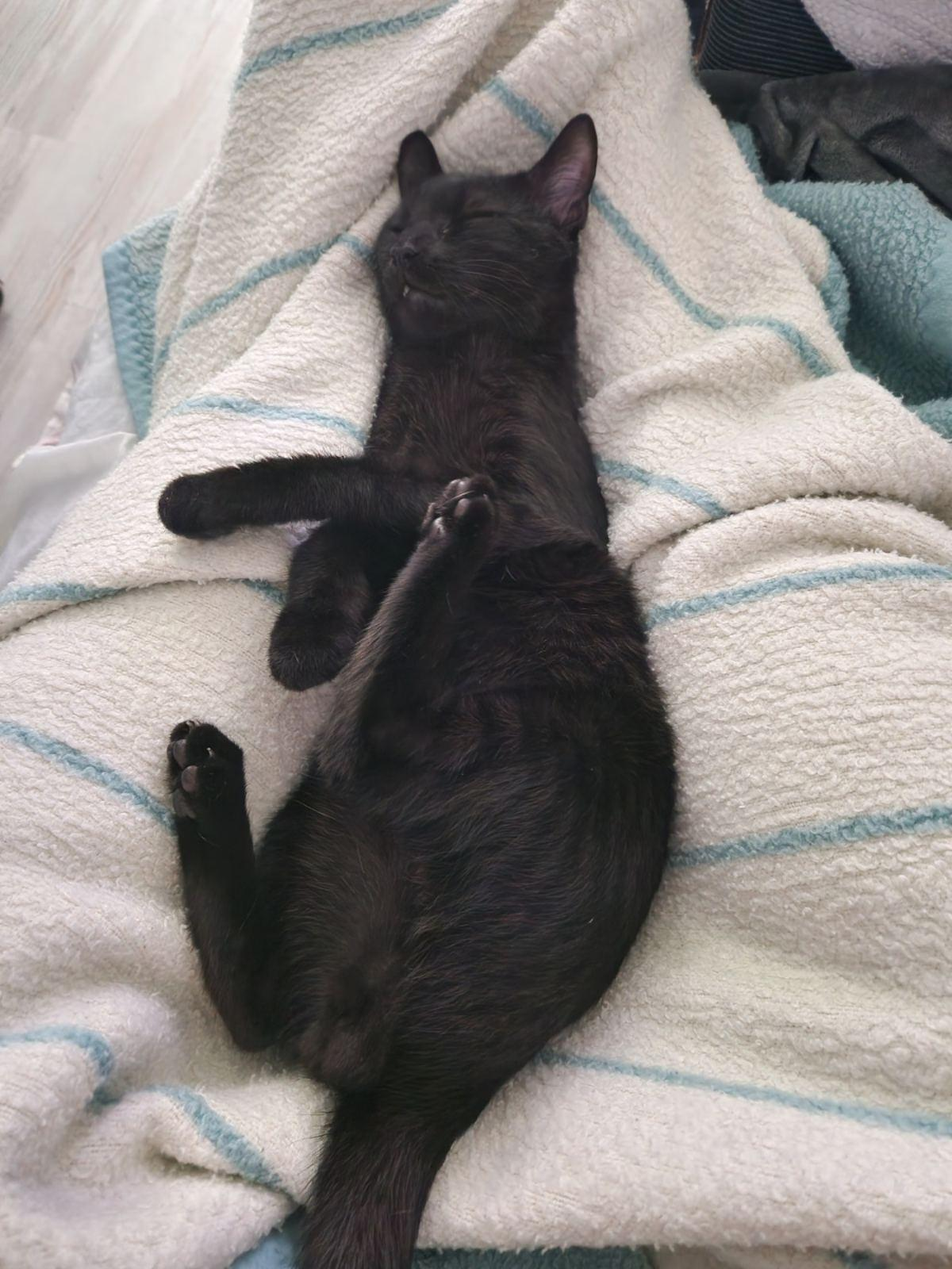macka: (164, 115, 677, 1269)
